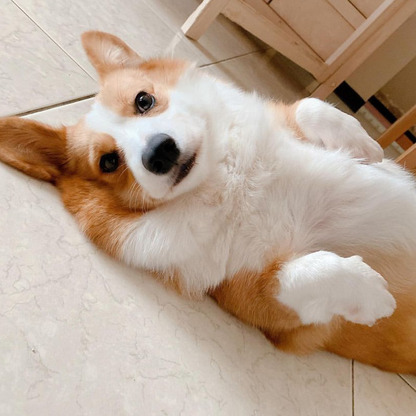Corgi: (7, 29, 389, 339)
